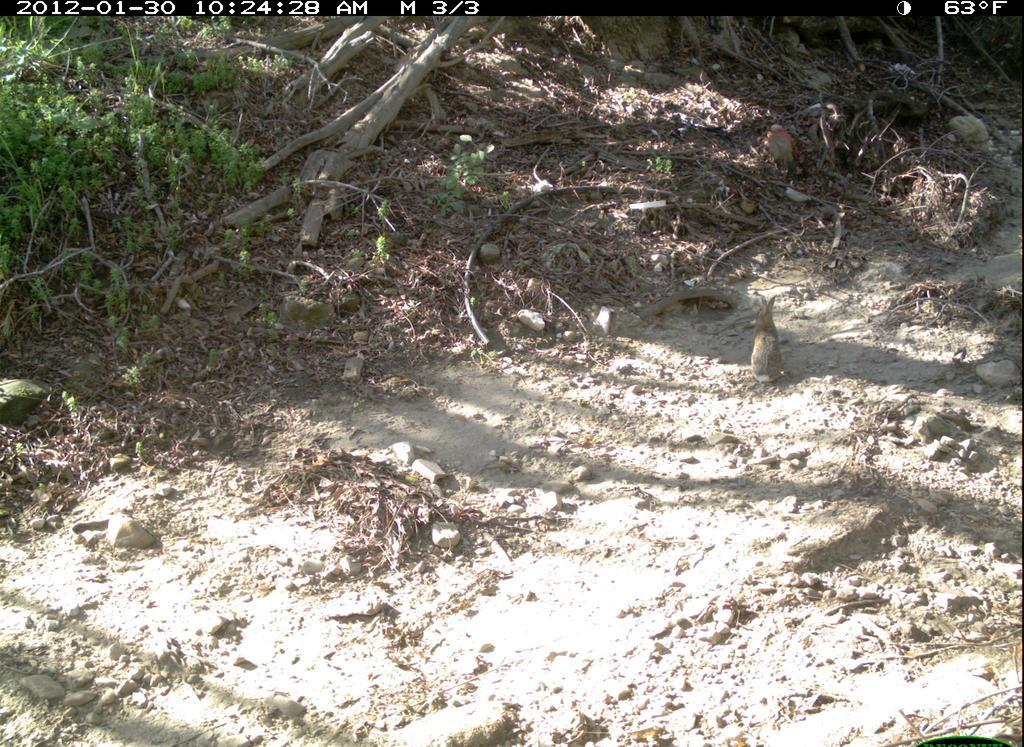rabbit: (739, 280, 795, 388)
